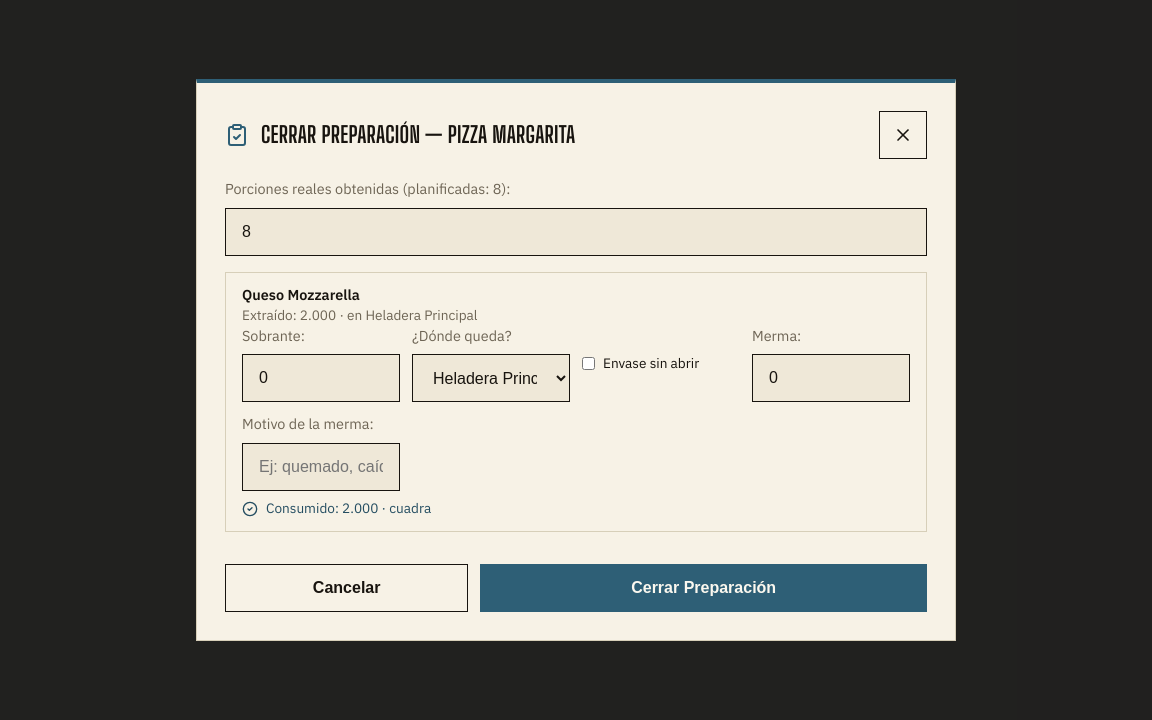
Test: ClosePreparationModal (US-028 / TK-104-FE) › devolver a bodega sin marcar "envase sin abrir" bloquea el submit (espejo cliente del 422)
Replace the text in the number field labelled "Sobrante:" with "2.0" at (321, 378), box top-left (242, 354), bottom-right (400, 402)
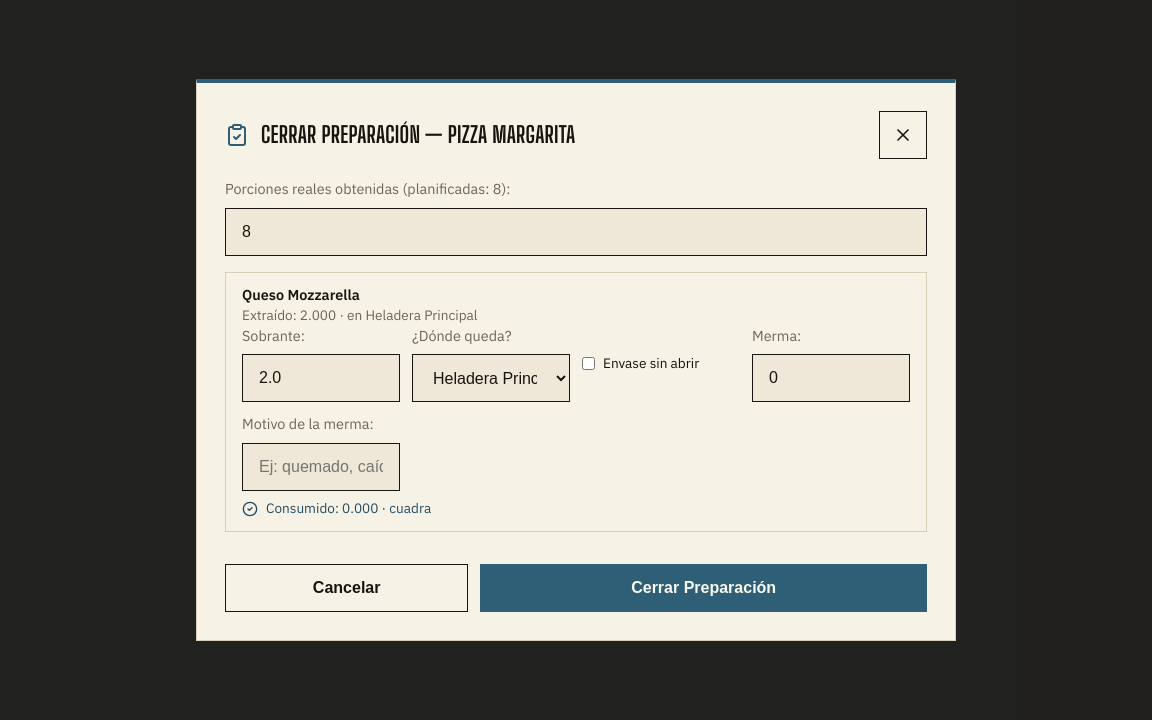
Select "Bodega de Secos" in the dropdown labelled "¿Dónde queda?" at (491, 378), box top-left (412, 354), bottom-right (570, 402)
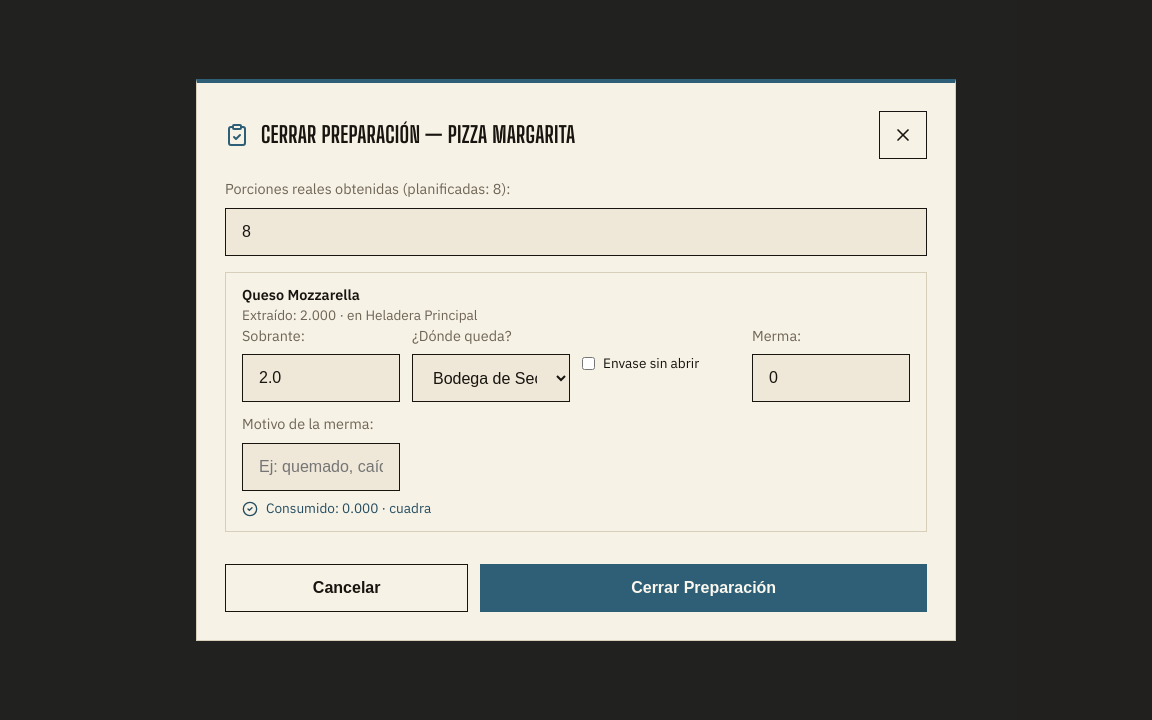
Click the button "Cerrar Preparación" at (704, 588), box top-left (480, 564), bottom-right (927, 612)
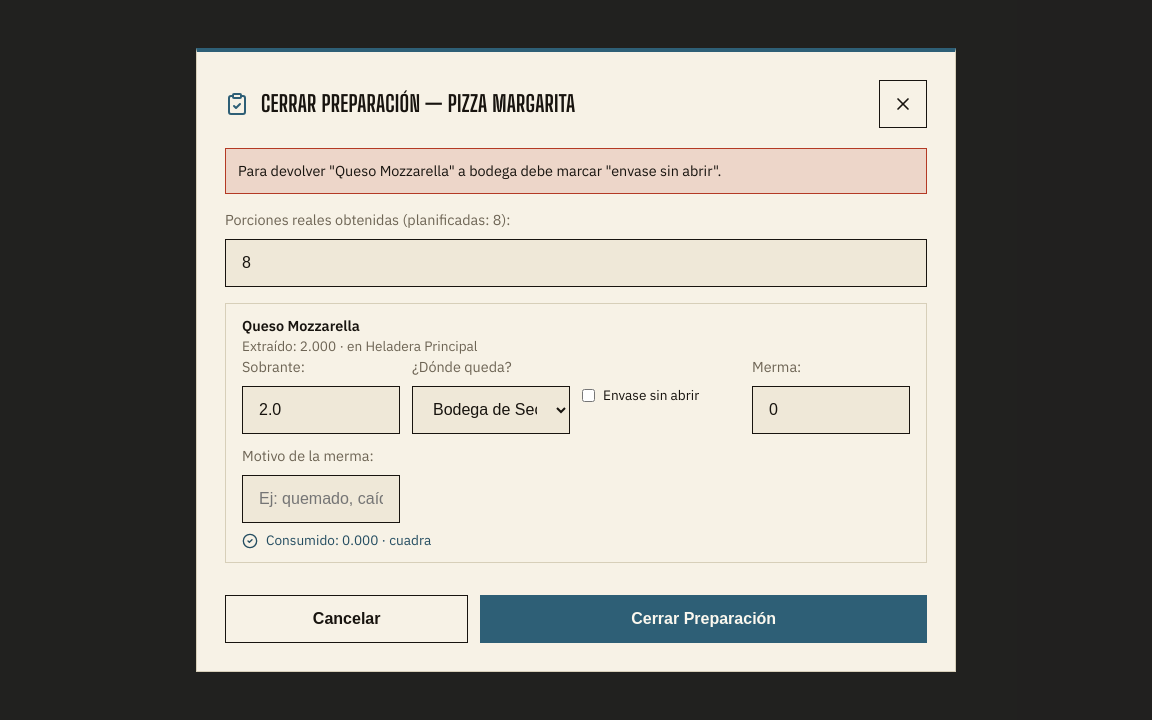
Expected: the message shows "envase sin abrir", top-left (238, 161), bottom-right (722, 180)
